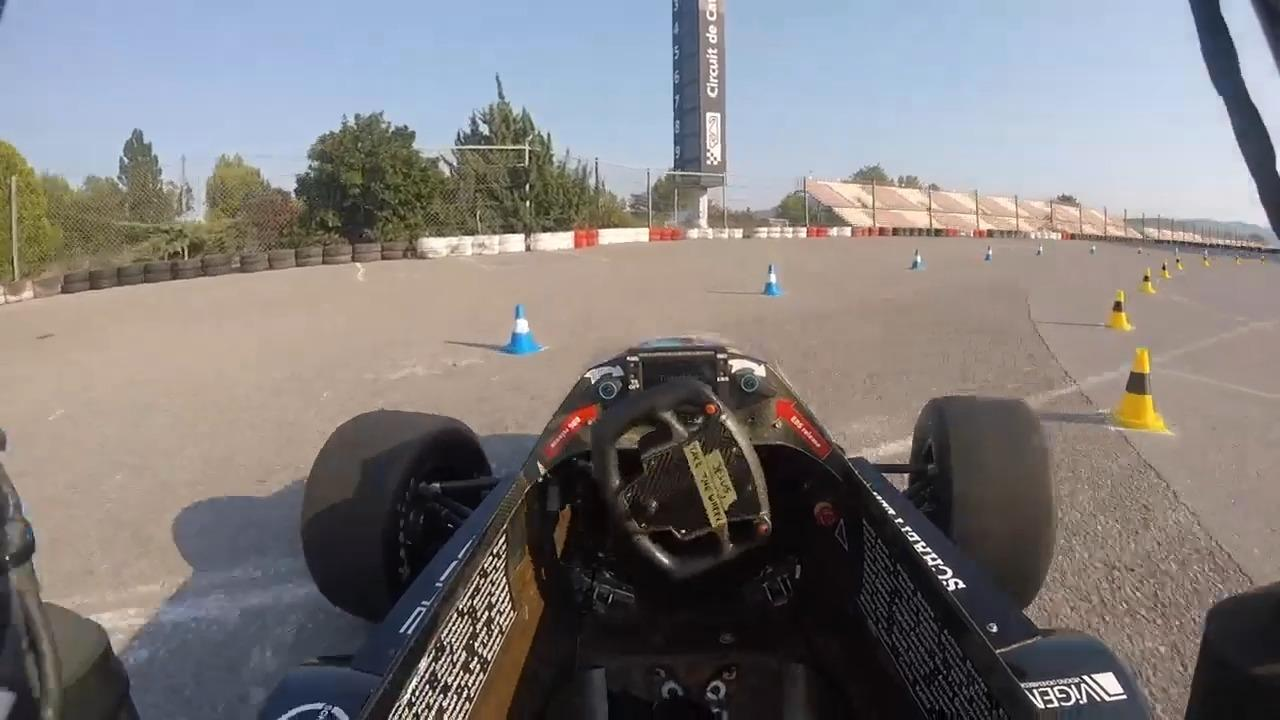blue_cone: (502, 303, 543, 356), (761, 262, 785, 298), (911, 248, 926, 270), (983, 243, 996, 262)
yellow_cone: (1108, 347, 1167, 432), (1106, 290, 1133, 332), (1139, 267, 1156, 294), (1158, 258, 1172, 278)
